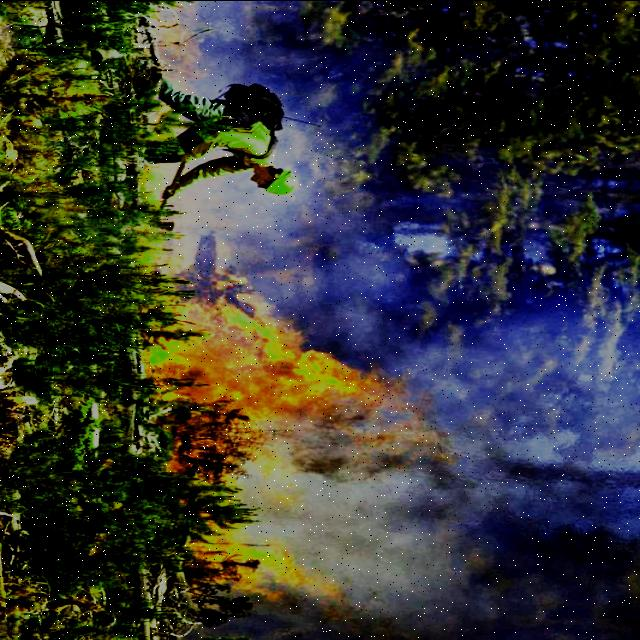api: (159, 299, 358, 431), (146, 193, 218, 277), (188, 536, 304, 585), (174, 444, 306, 484)
asap: (335, 477, 633, 634), (233, 197, 407, 289), (161, 1, 256, 86)
